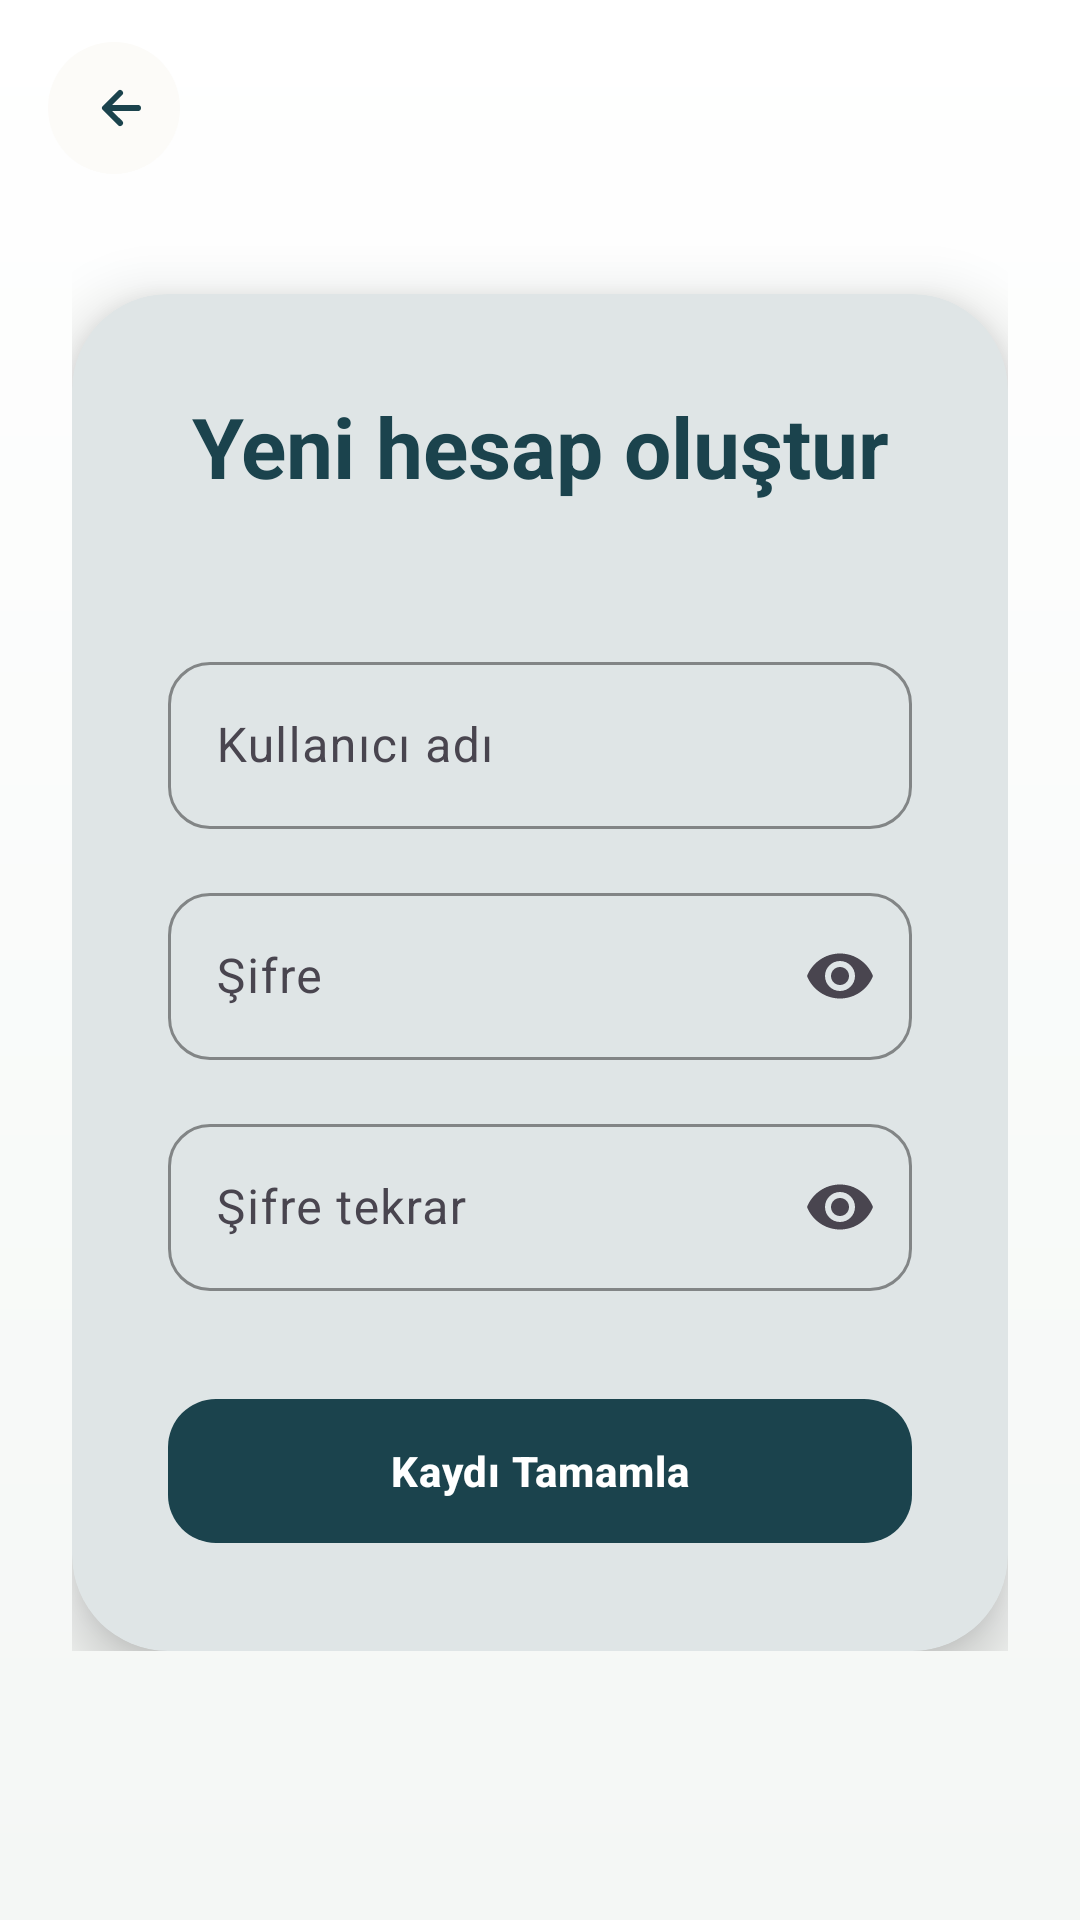

Icon click points for this 1080px x 1920px phone screenshot, format point (x, y):
Geri: point (121, 108)
